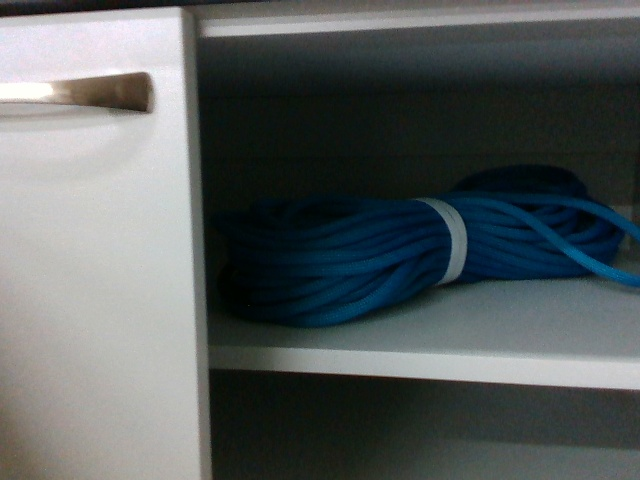rope: (267, 186, 640, 322)
